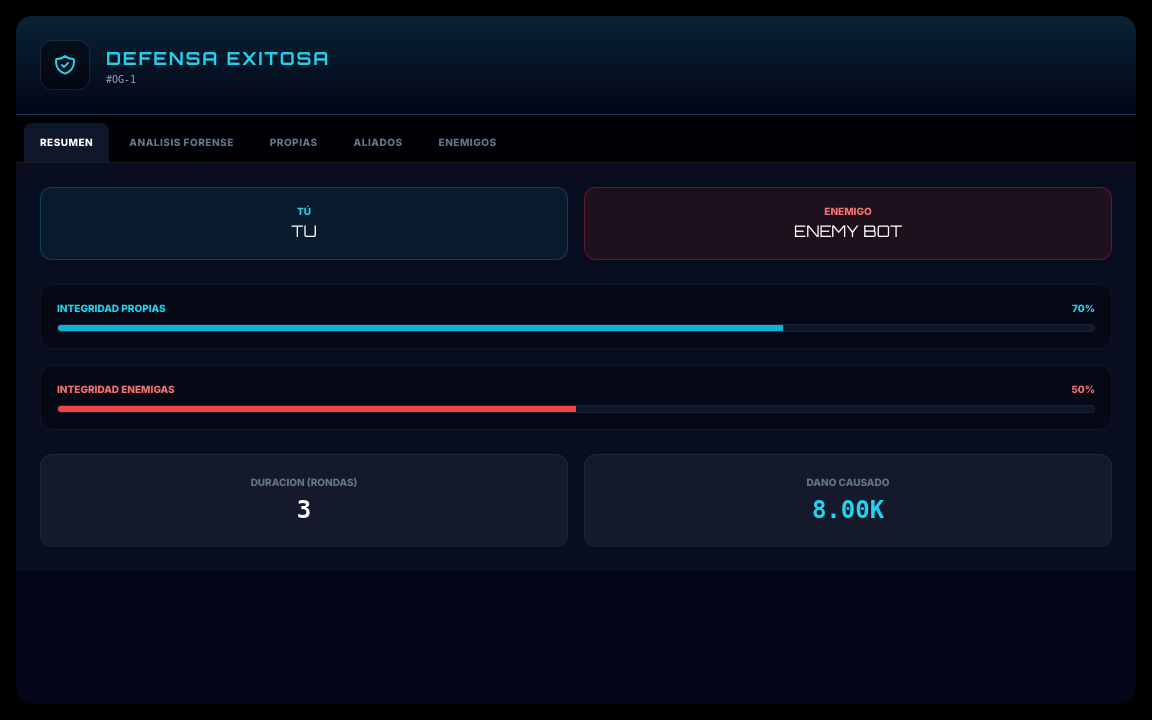
Test: Combat Report Modal - Integration Tests › Casualties Rendering › should render player casualties in unit list
# Navigate to player tab
Click the button "Propias".
click(294, 142)  # box [254,123,334,162]
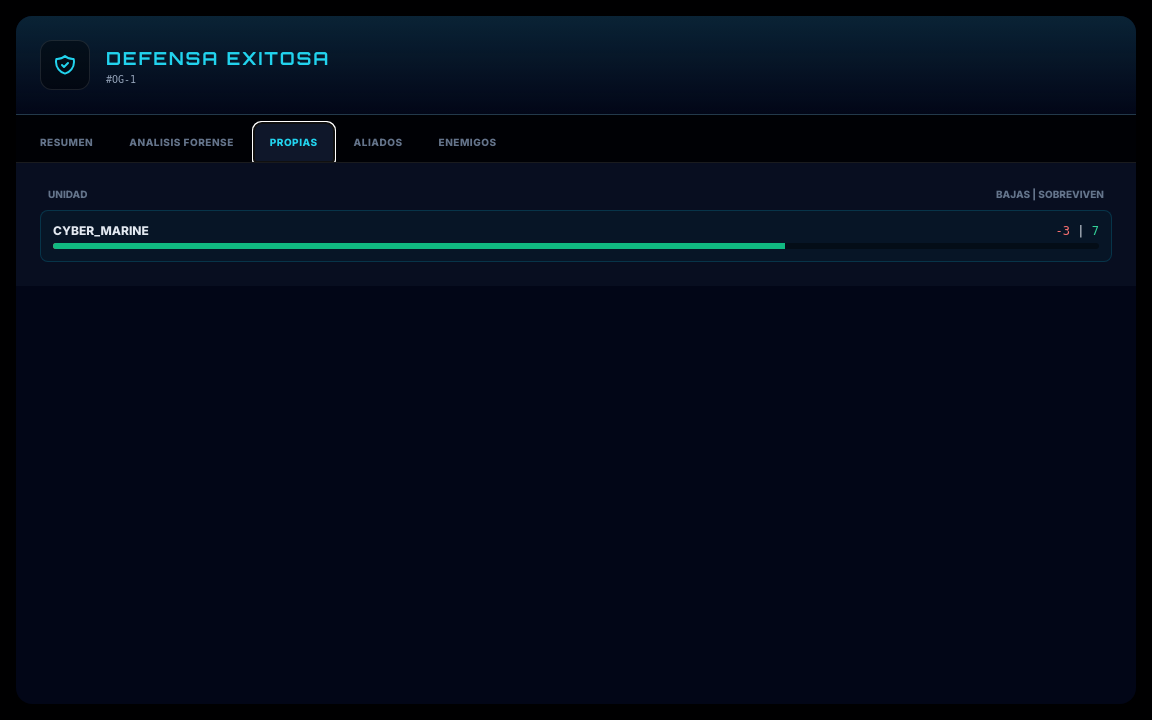
Expected: the text "-3" is shown, [1056,224,1070,238]
